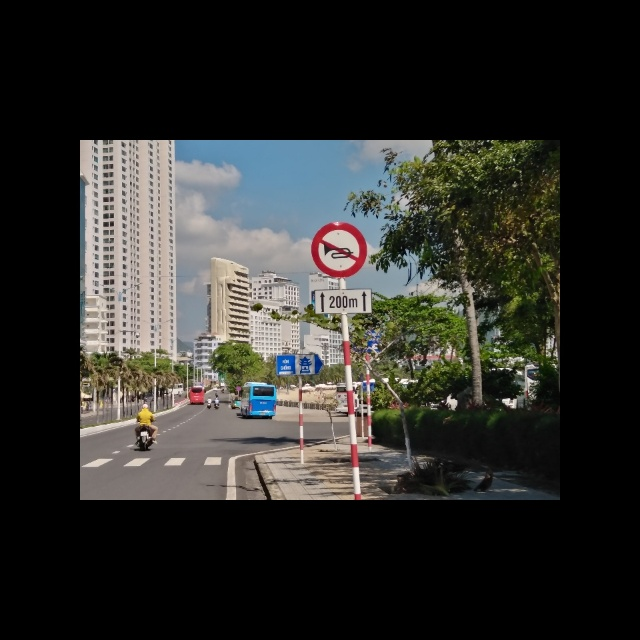Cấm bấm còi: (311, 222, 368, 278)
